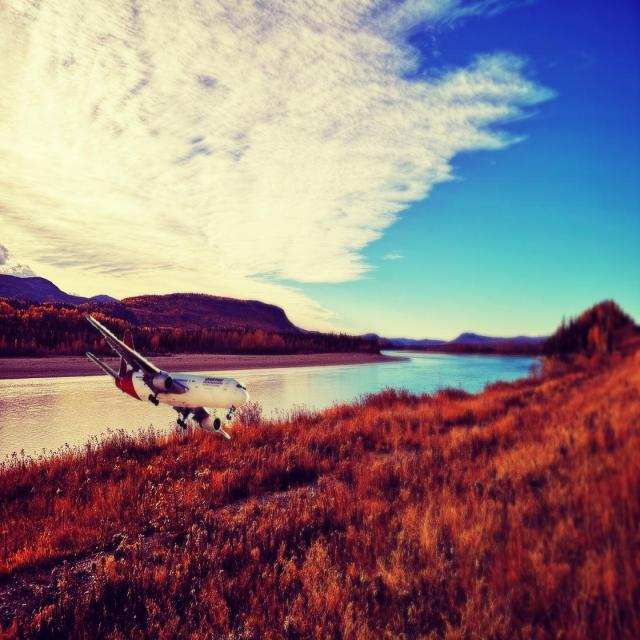airplane: (84, 312, 249, 441)
